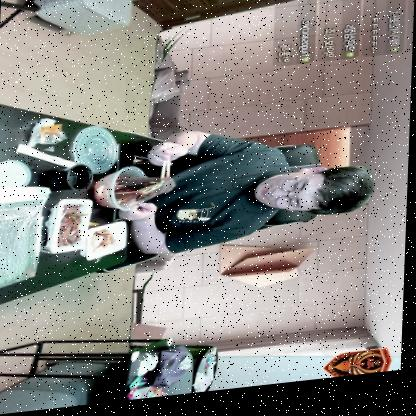streamer: (117, 118, 376, 263)
